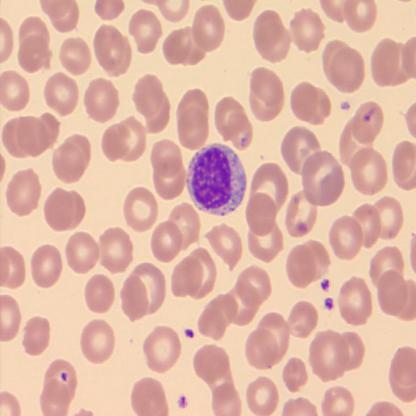Myelocyte: (185, 143, 247, 215)
